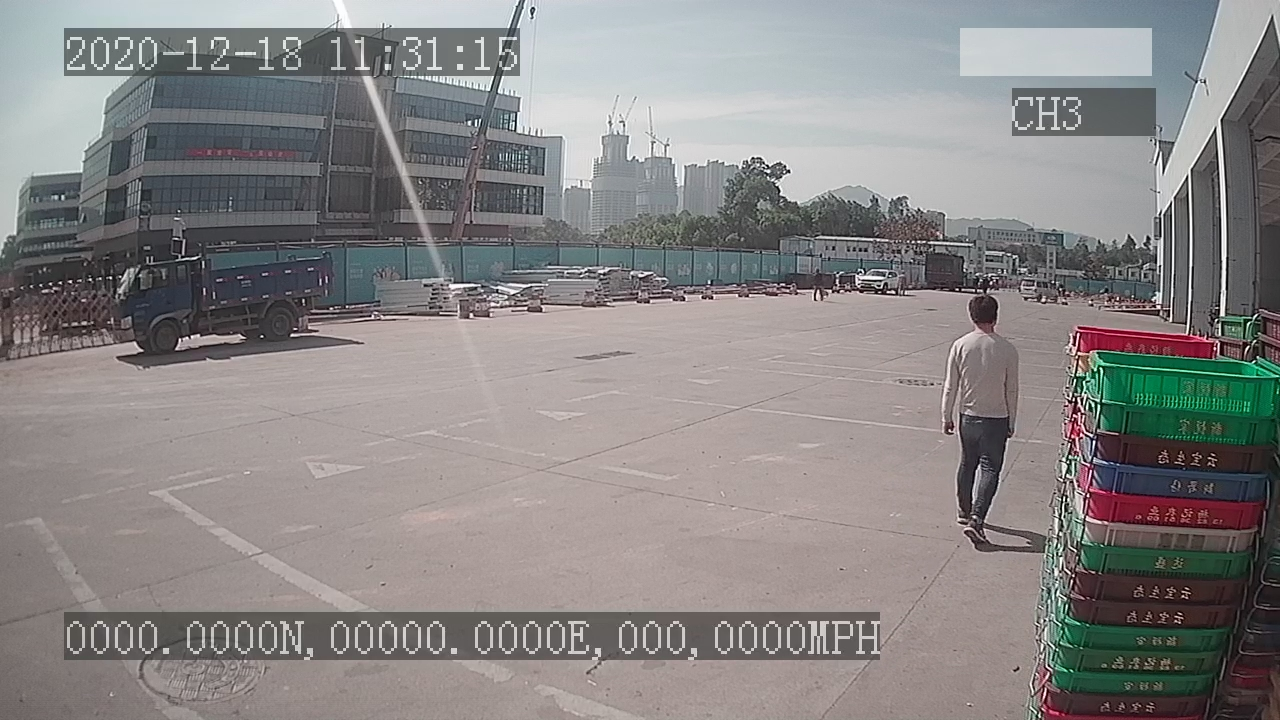person: (939, 292, 1020, 549)
